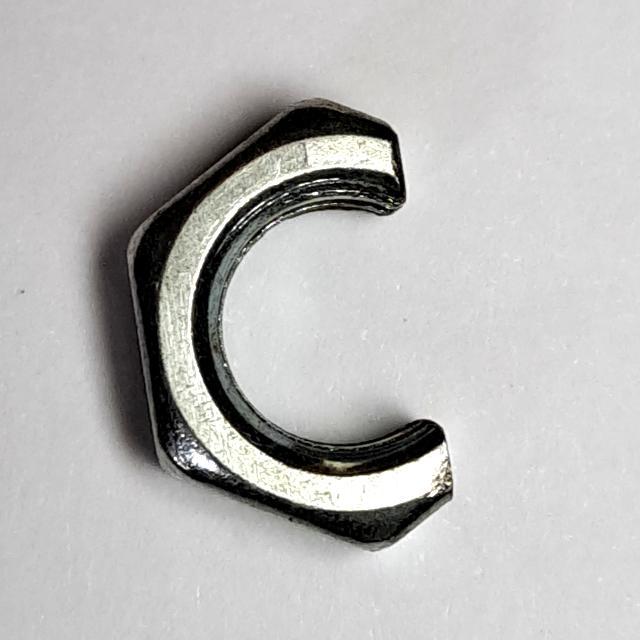Fracture: (113, 83, 477, 567)
